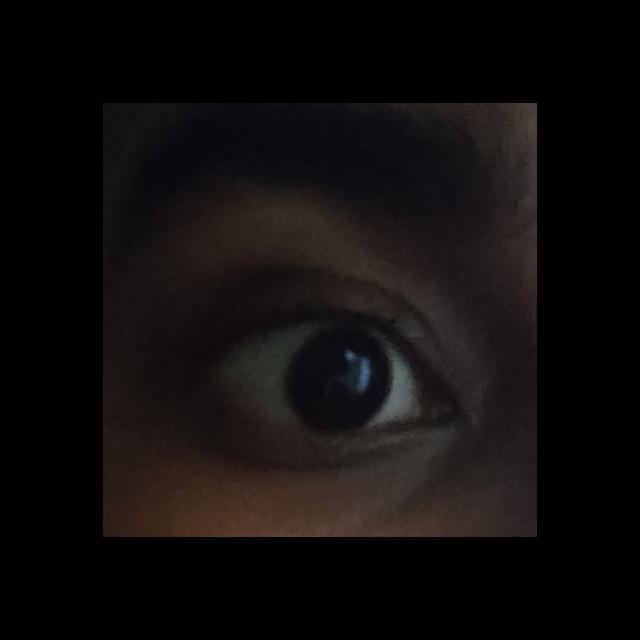eye: (207, 315, 423, 435)
iris: (283, 327, 394, 430)
